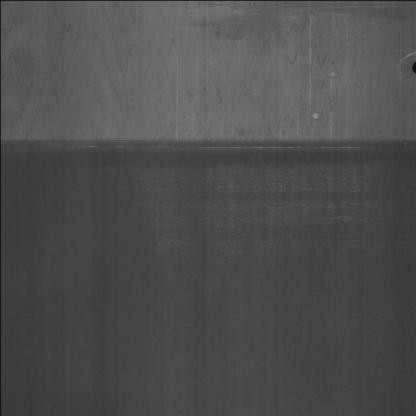welding_line: (0, 121, 413, 162)
